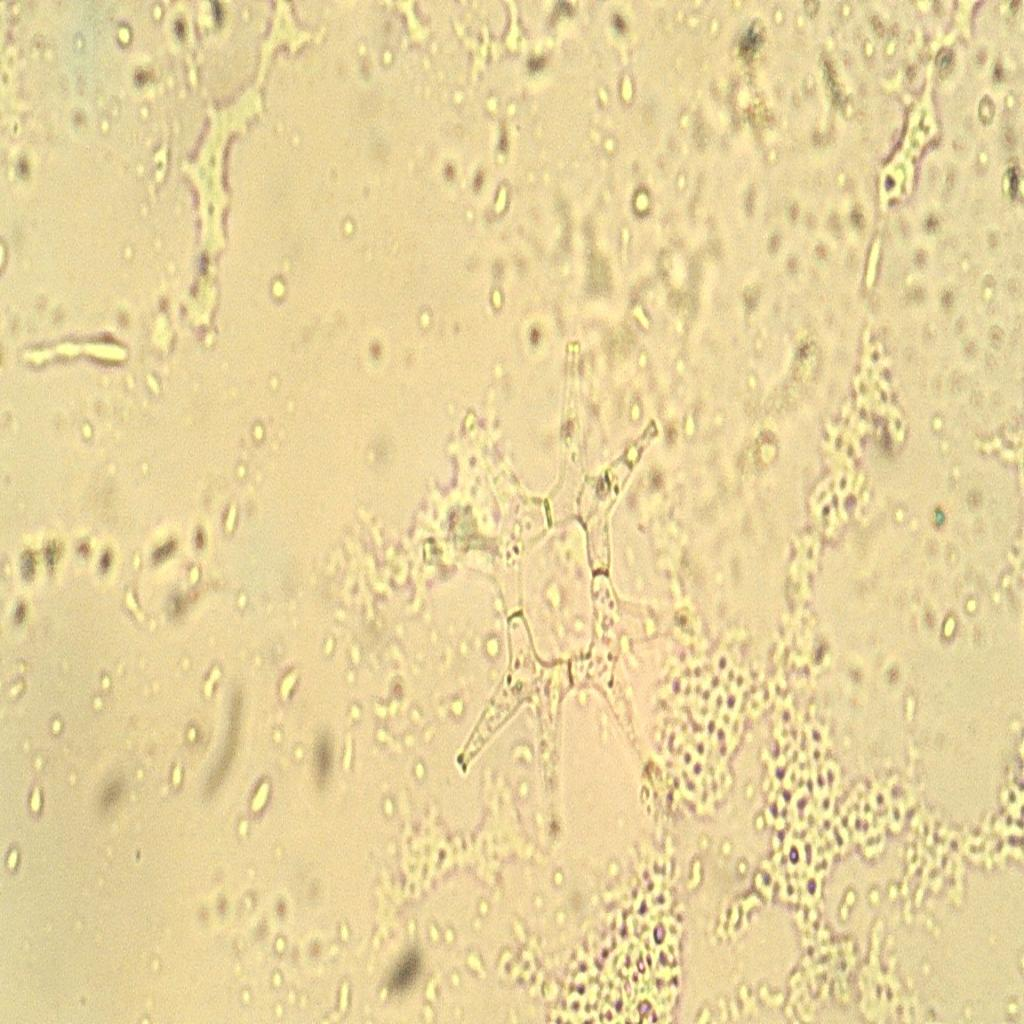Pediastrum_75TH: (392, 311, 728, 859)
